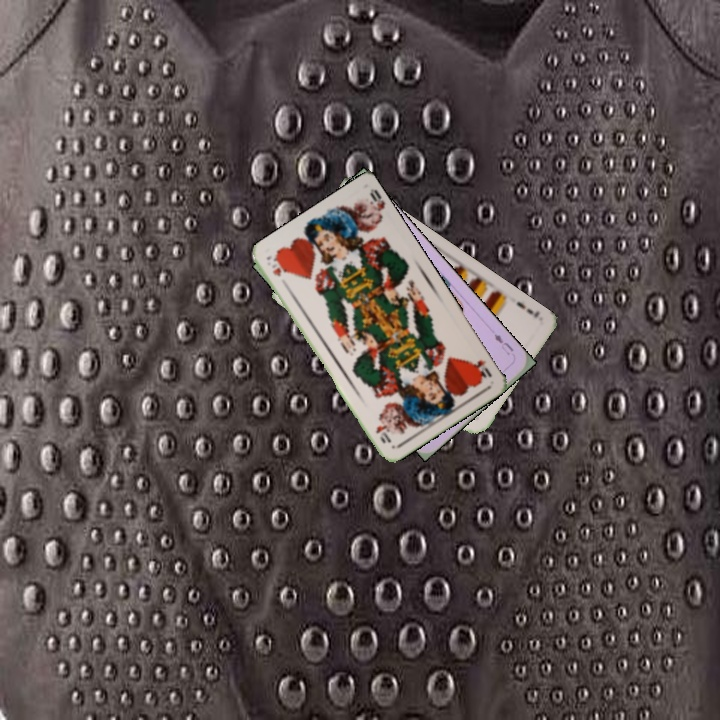E7: (512, 297, 542, 320)
EU: (490, 329, 516, 358)
HO: (467, 356, 494, 383), (267, 253, 287, 279)
